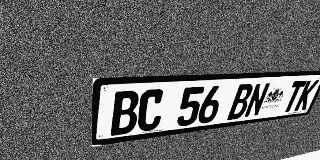5: (176, 86, 205, 127)
6: (196, 85, 225, 124)
B: (110, 90, 140, 136), (227, 83, 255, 120)
C: (136, 89, 166, 132)
K: (293, 80, 320, 111)
N: (243, 83, 271, 118)
T: (281, 80, 307, 113)
